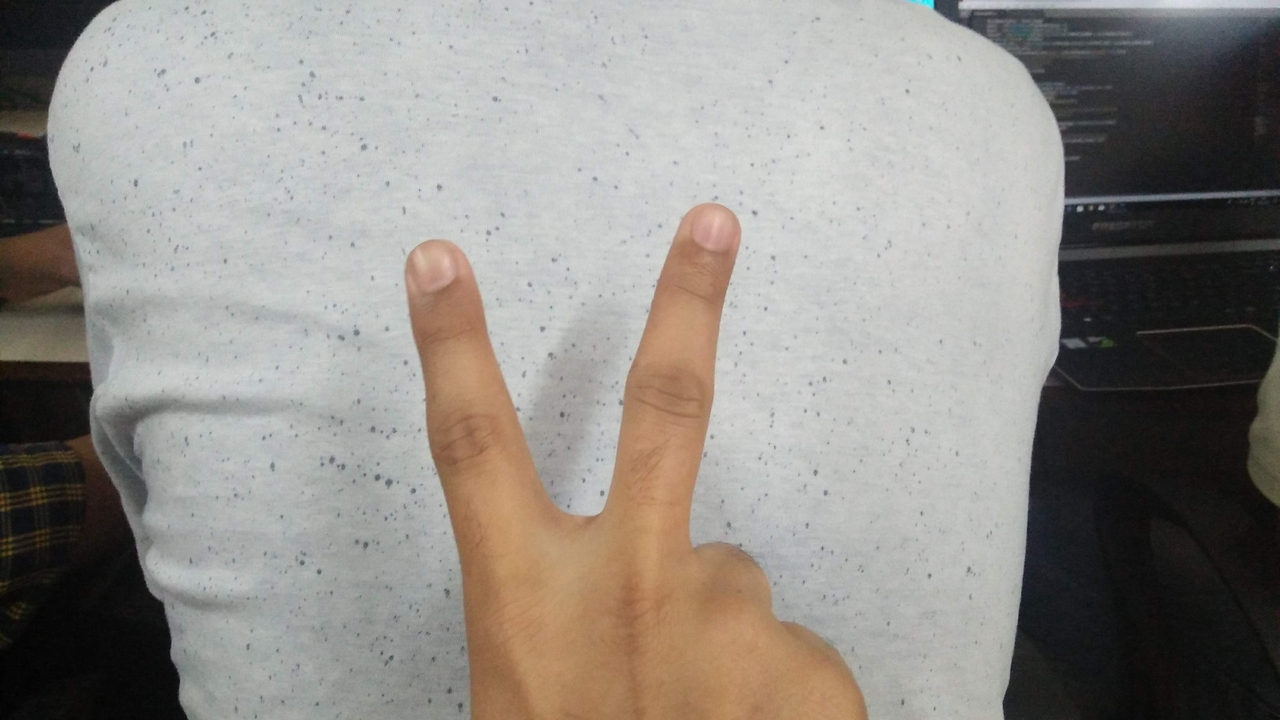fingertip: (392, 236, 480, 304), (674, 196, 748, 264)
